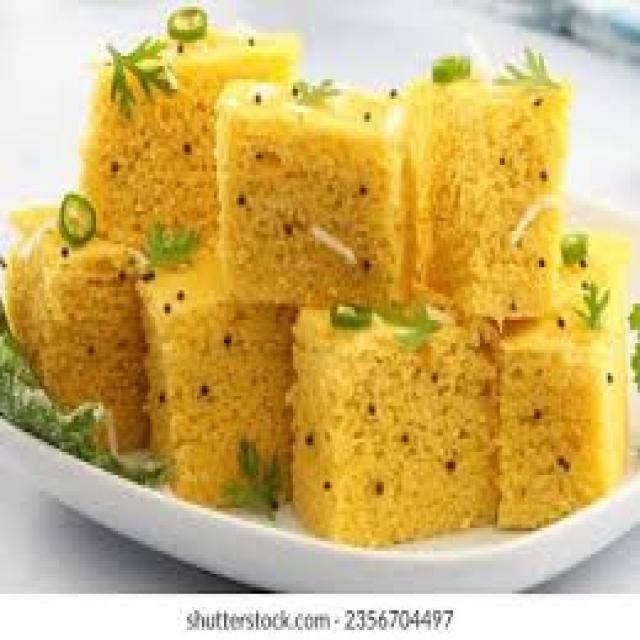DHOKLA: (86, 14, 309, 245), (216, 61, 418, 303), (289, 295, 487, 537), (403, 72, 558, 327), (140, 252, 285, 503), (494, 235, 620, 523), (9, 202, 147, 450)
